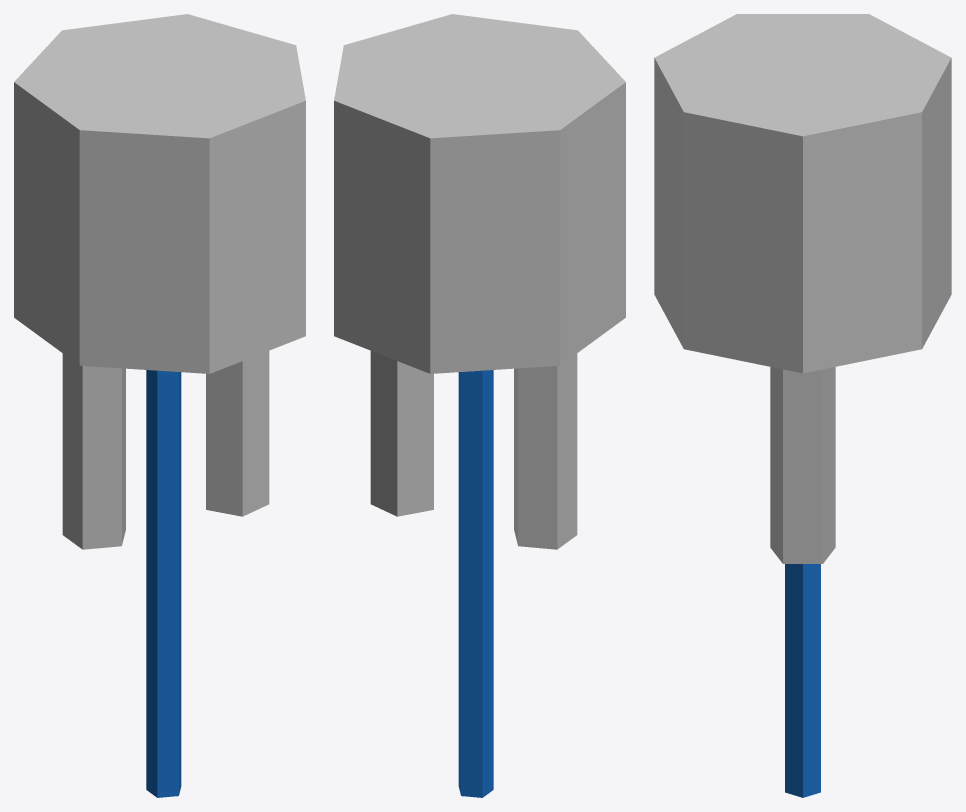
File: SM_overhead_lamp2.fbx
3 renders of one model, left to right at view 1: azimuth 30°, elevation 25°; view 2: azimuth 150°, elevation 25°; view 3: azimuth 270°, elevation 25°, orthographic.
Visible parts, largest first — view 1: overhead_lamp2; view 2: overhead_lamp2; view 3: overhead_lamp2.
Part boxes in pixels (x1,y1,x2,y2): overhead_lamp2: (14, 14, 305, 797); overhead_lamp2: (334, 14, 625, 797); overhead_lamp2: (654, 14, 951, 797).
Bounding box in the file's own units: 28.51 × 78 × 29.25.
